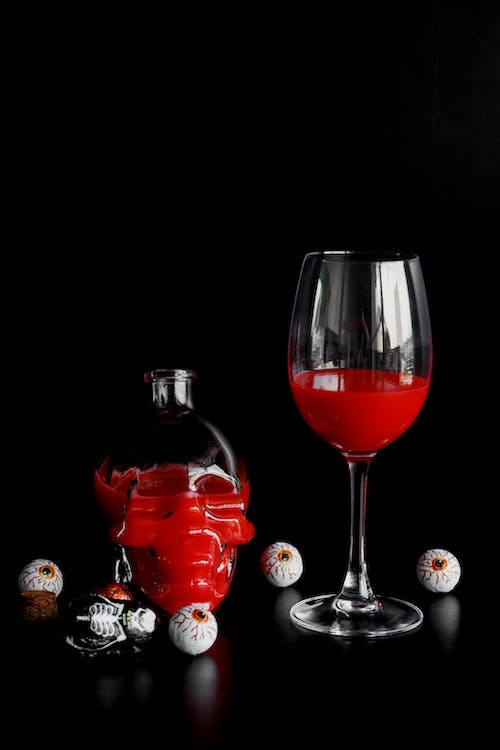blood: (92, 465, 256, 617), (290, 368, 432, 452)
